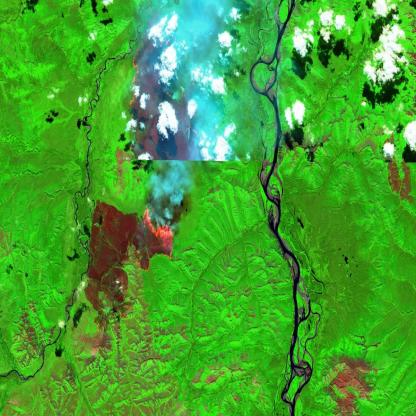fire: (124, 205, 177, 279), (126, 45, 146, 137)
